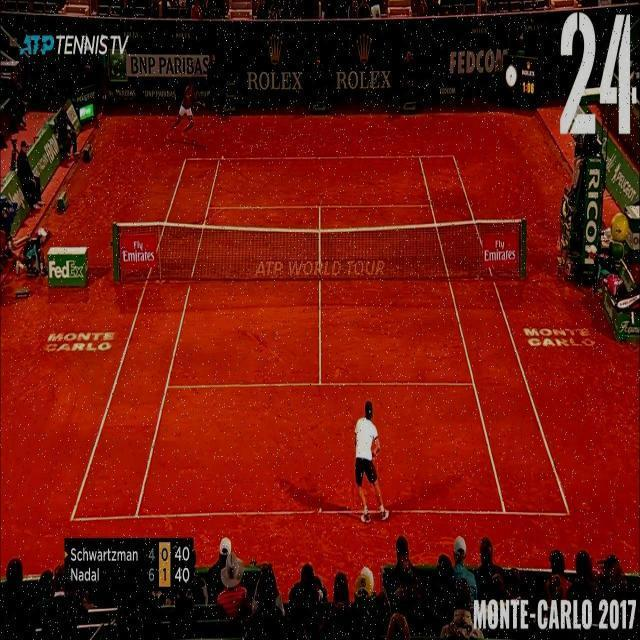left side: (420, 156, 569, 514), (72, 159, 220, 519)
player: (347, 397, 390, 525), (170, 80, 200, 138)
